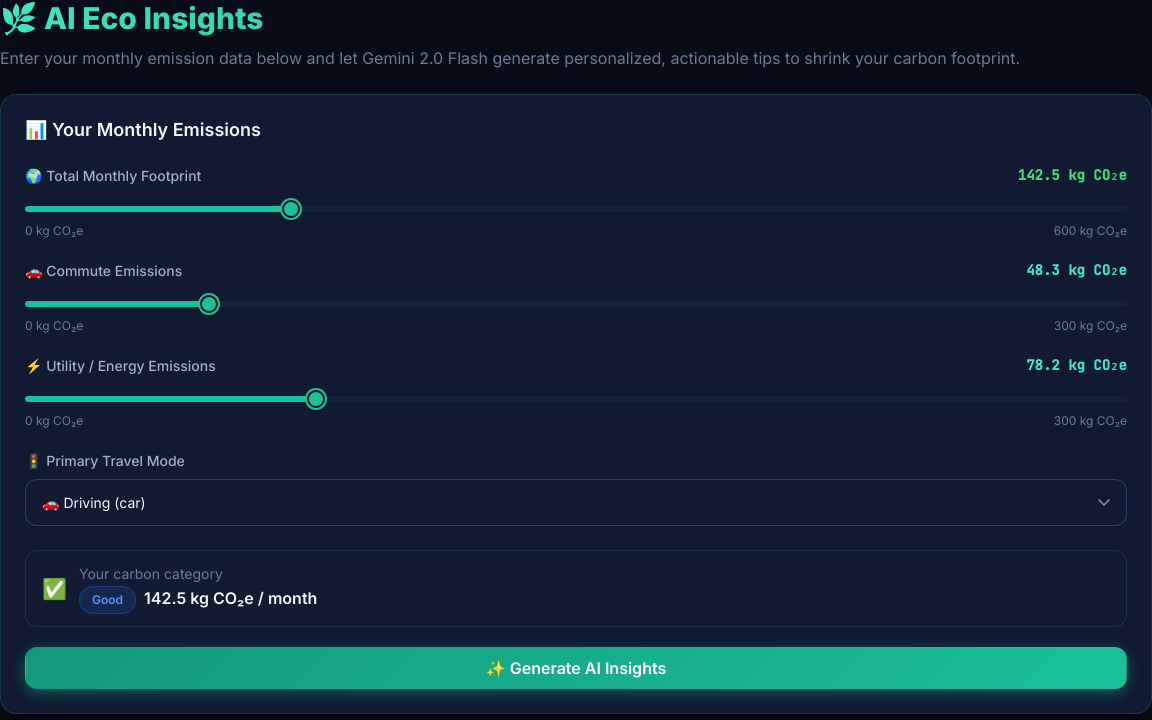
Test case: InsightsPage › renders AI insight result with markdown after successful response
Click the button named "Generate personalized eco insights": {"x": 576, "y": 668} [25, 647, 1127, 689]
(page scrolled)
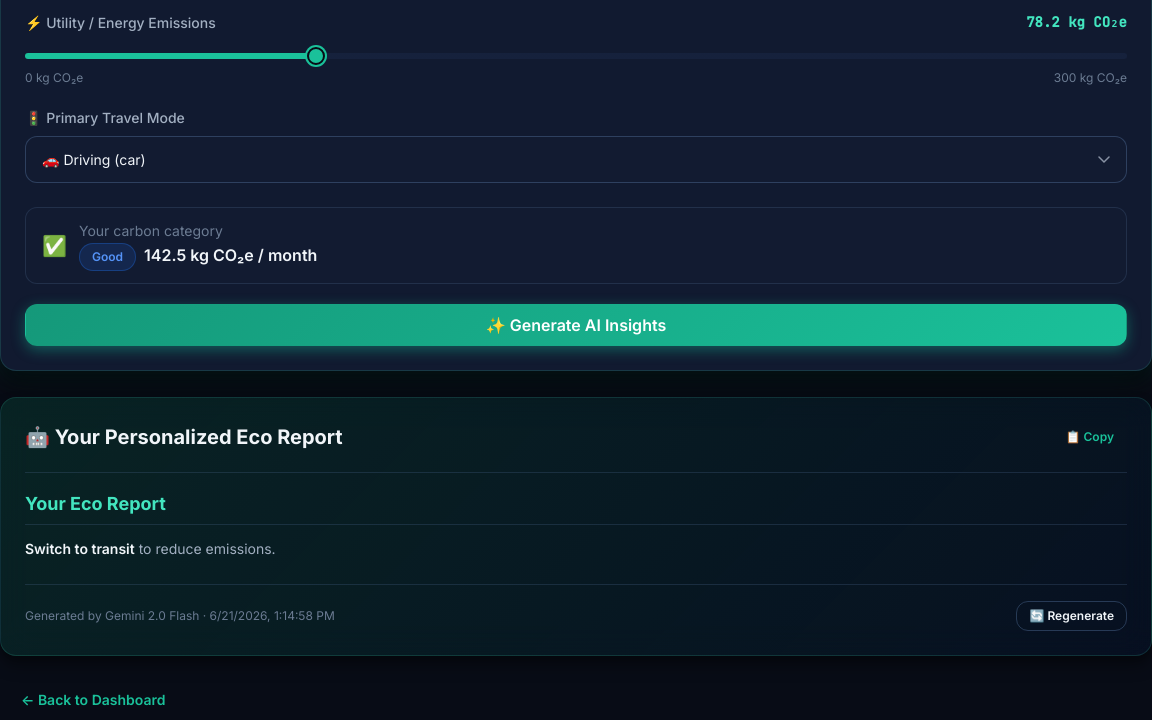
expect the element named "AI-generated eco insights" is shown: met, box [0, 397, 1151, 656]
expect the heading "Your Eco Report" is shown: met, box [25, 493, 1127, 524]
